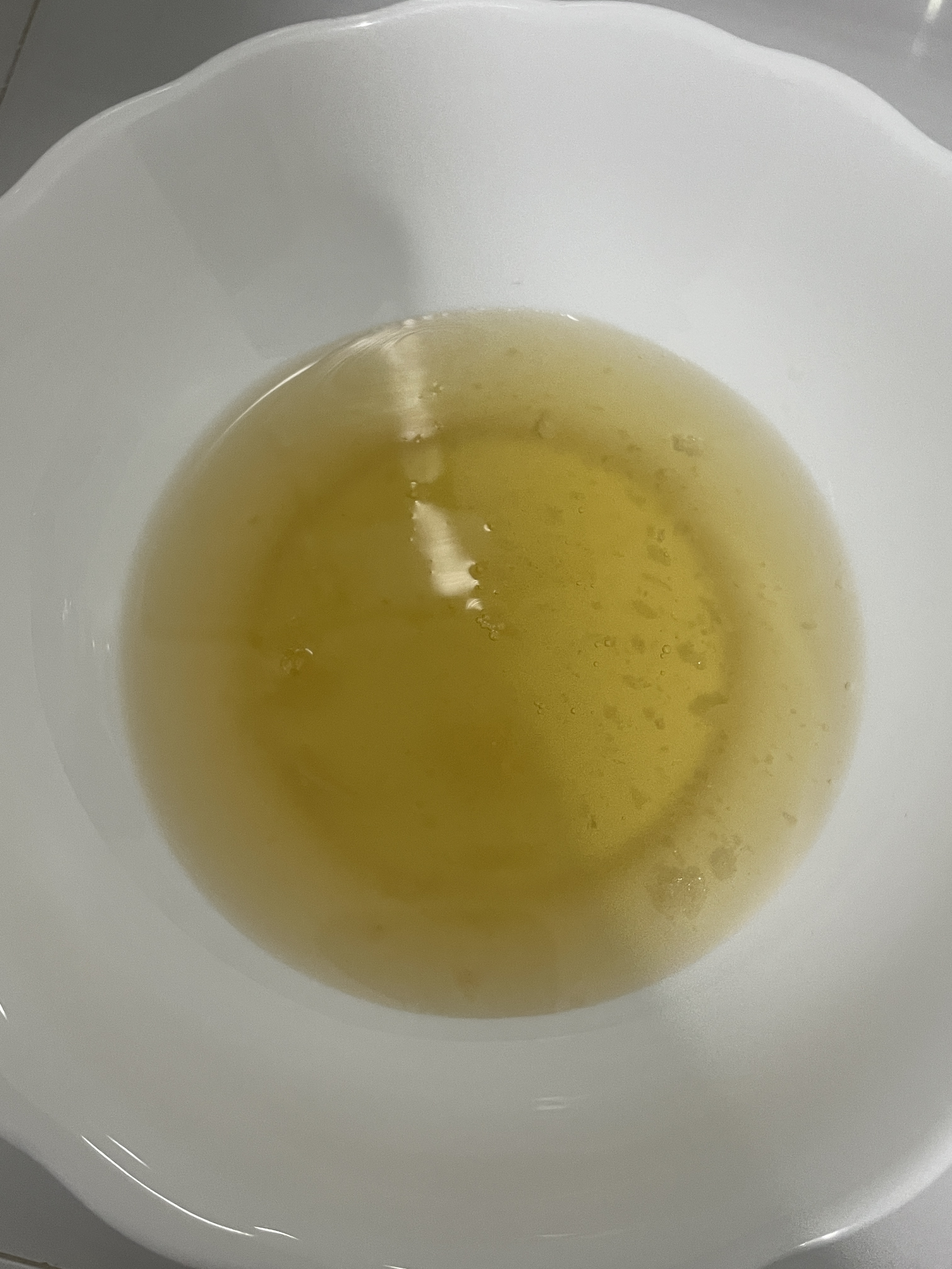reusable: (123, 315, 850, 1013)
